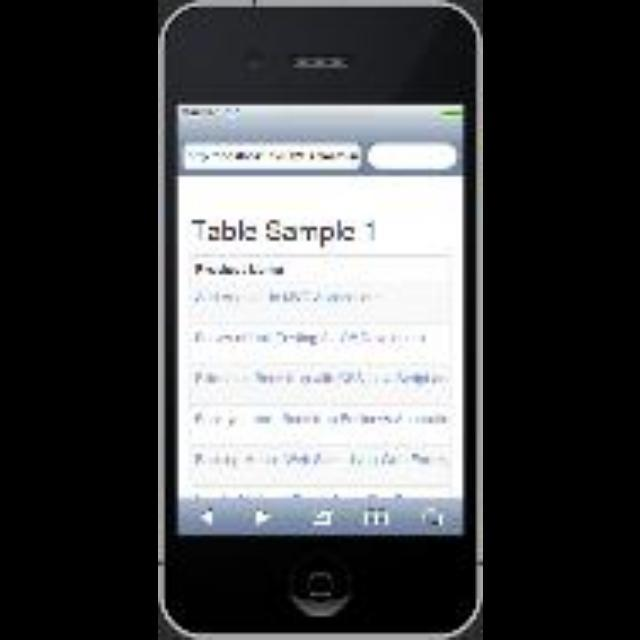phone: (166, 0, 479, 614)
